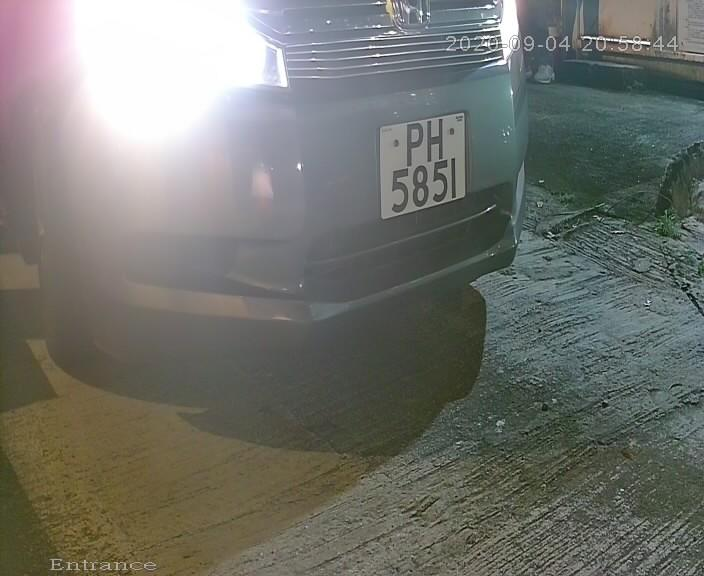License Plate: (371, 101, 475, 232)
